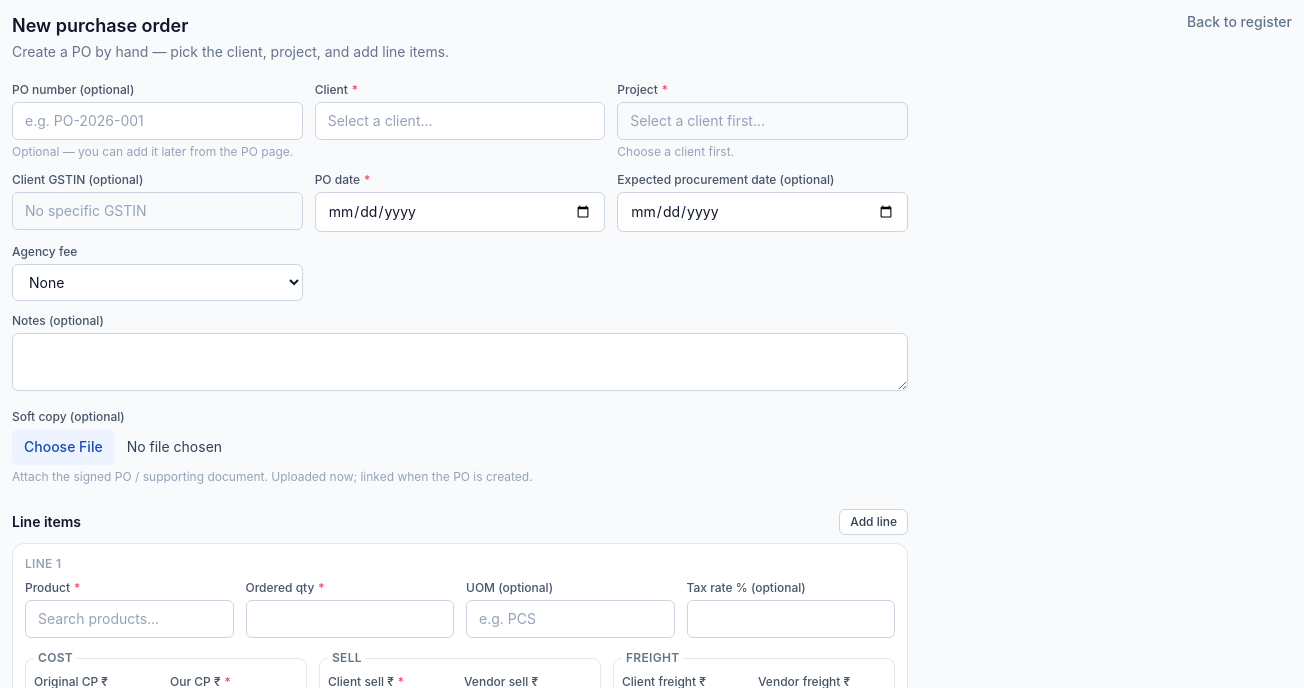
Test: PO create form — load this project's products (template pre-fill) › pre-fills the line UOM from the product master when the template's uom is null
Expected: the field labelled "PO number" is shown, [12,102,303,140]
Focus the dropdown labelled "Client *" at (460,121), box [315,102,605,140]
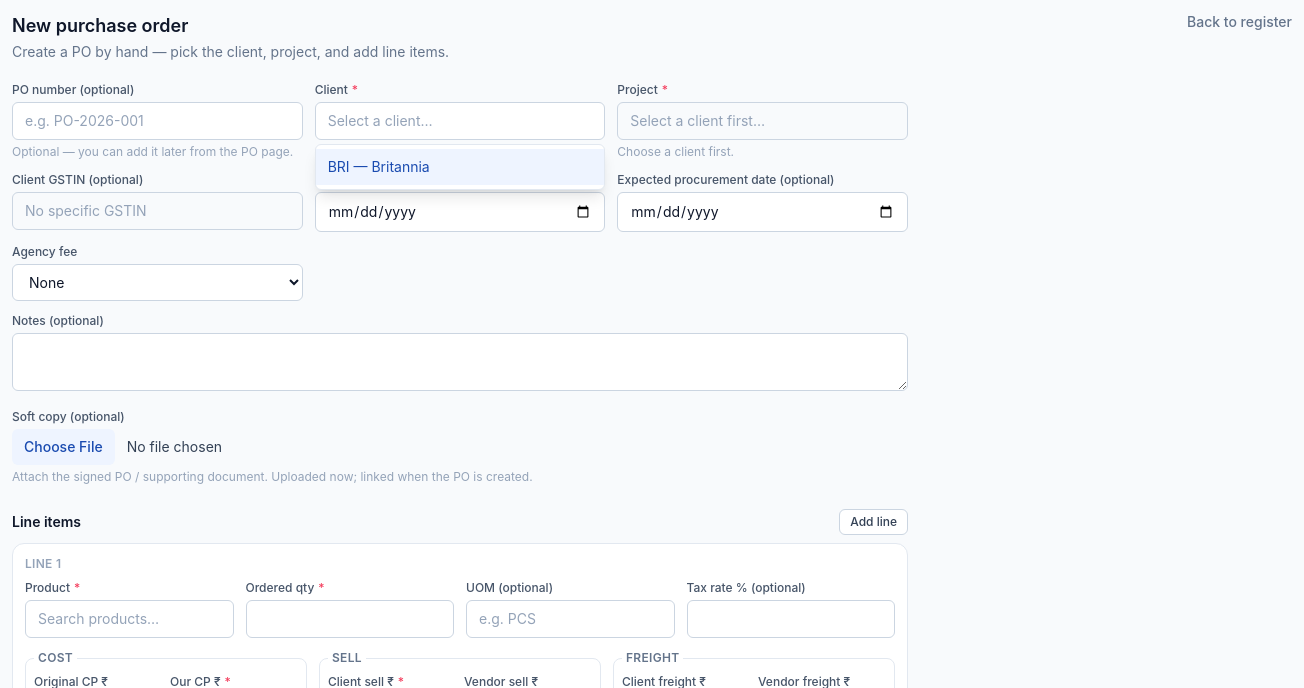
Press the mouse on the option "BRI — Britannia" at (379,166), box [316,149,604,185]
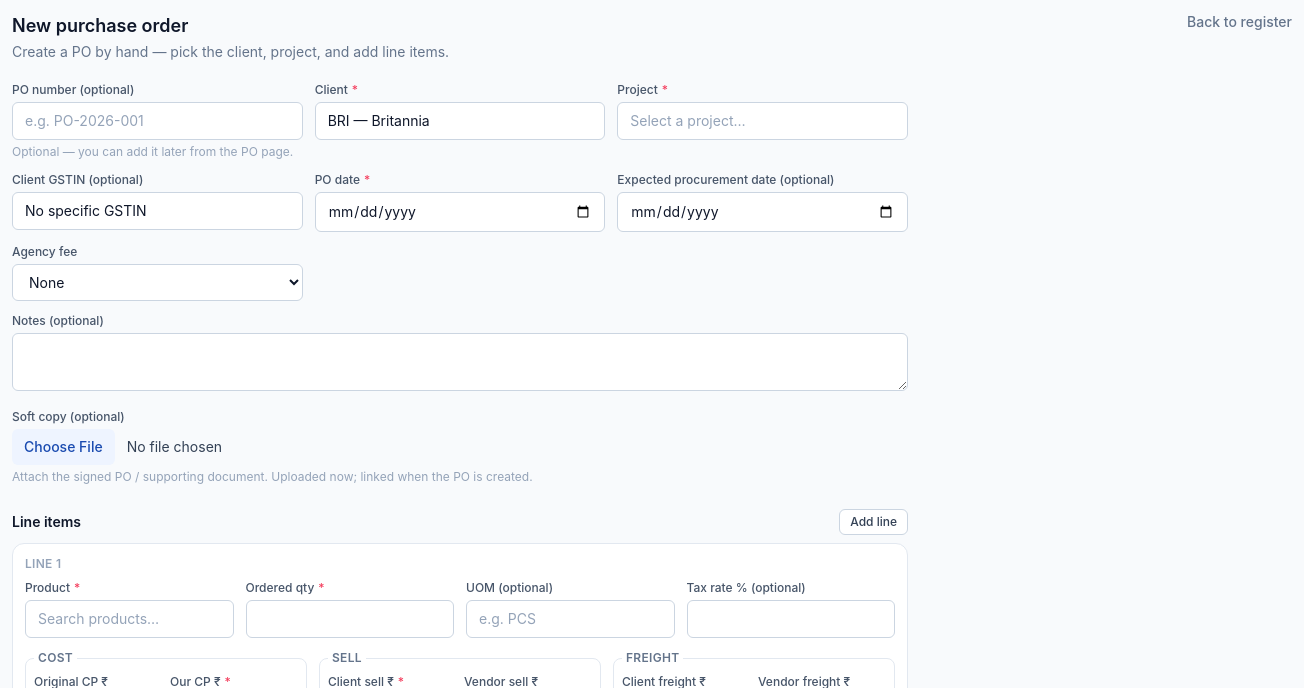
Expected: the dropdown labelled "Project *" is enabled
Focus the dropdown labelled "Project *" at (763,121), box [617,102,908,140]
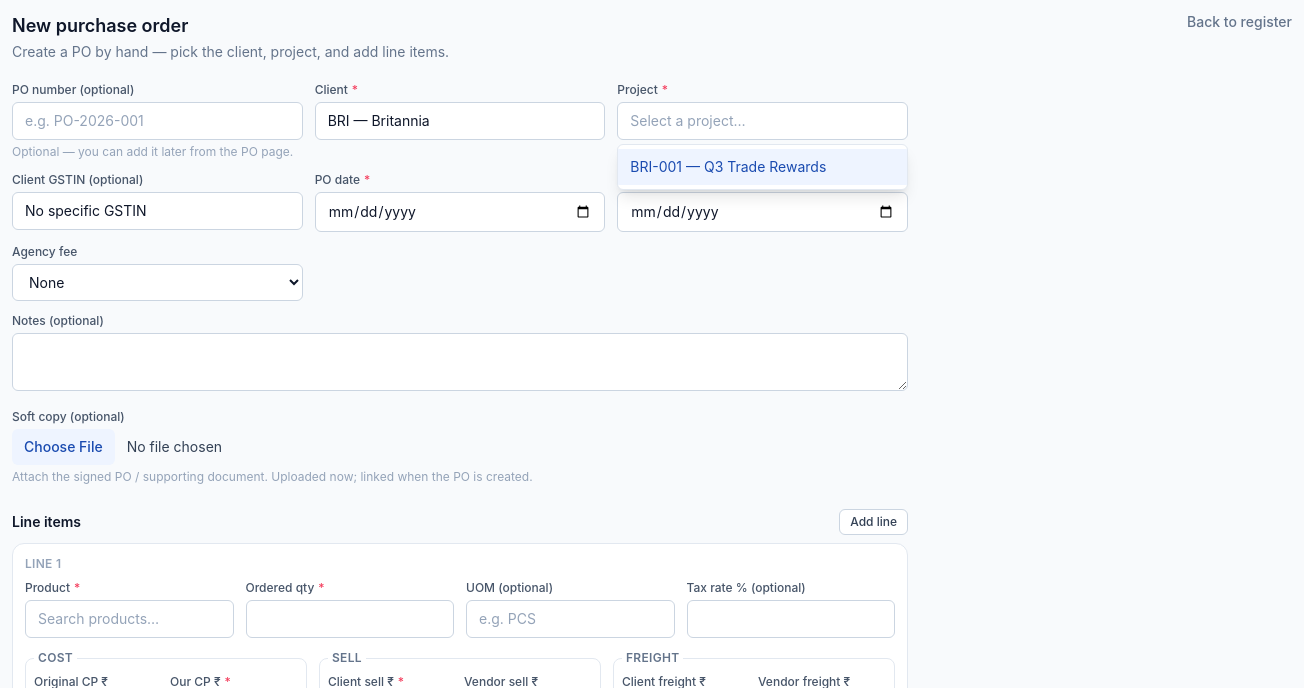
Press the mouse on the option "BRI-001 — Q3 Trade Rewards" at (763,167), box [618,149,907,185]
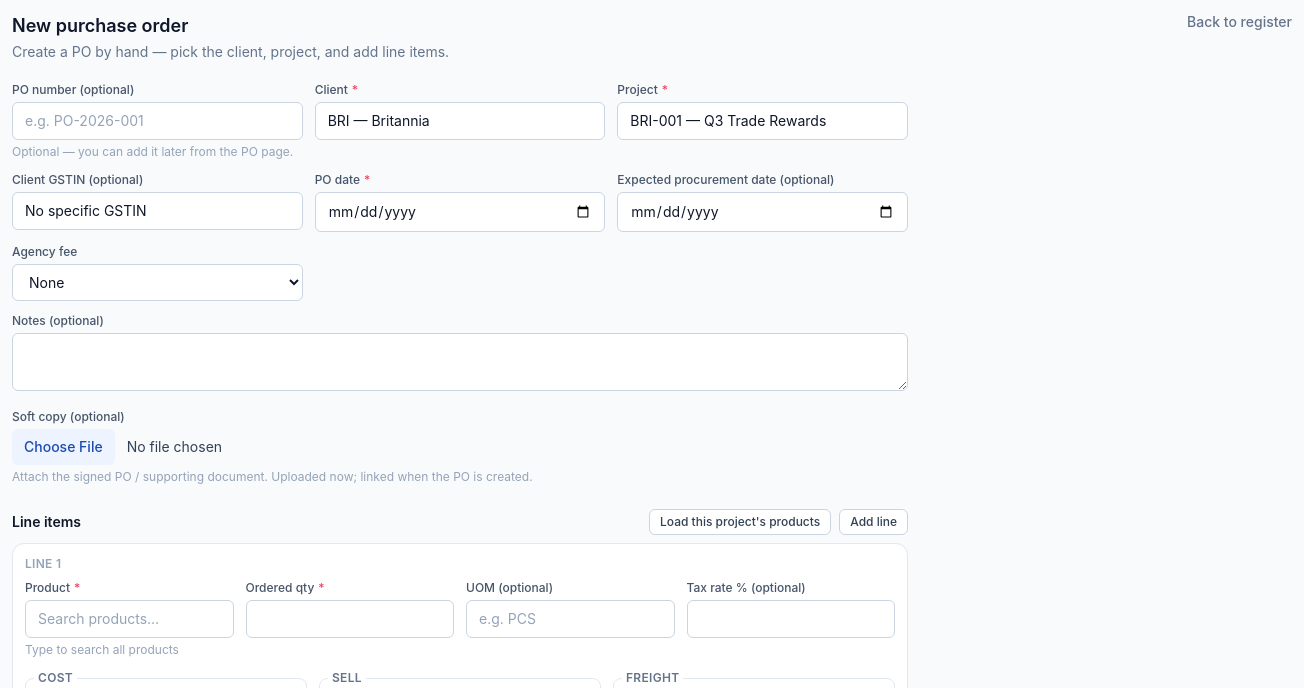
Click the button "Load this project's products" at (740,522), box [649,509,831,535]
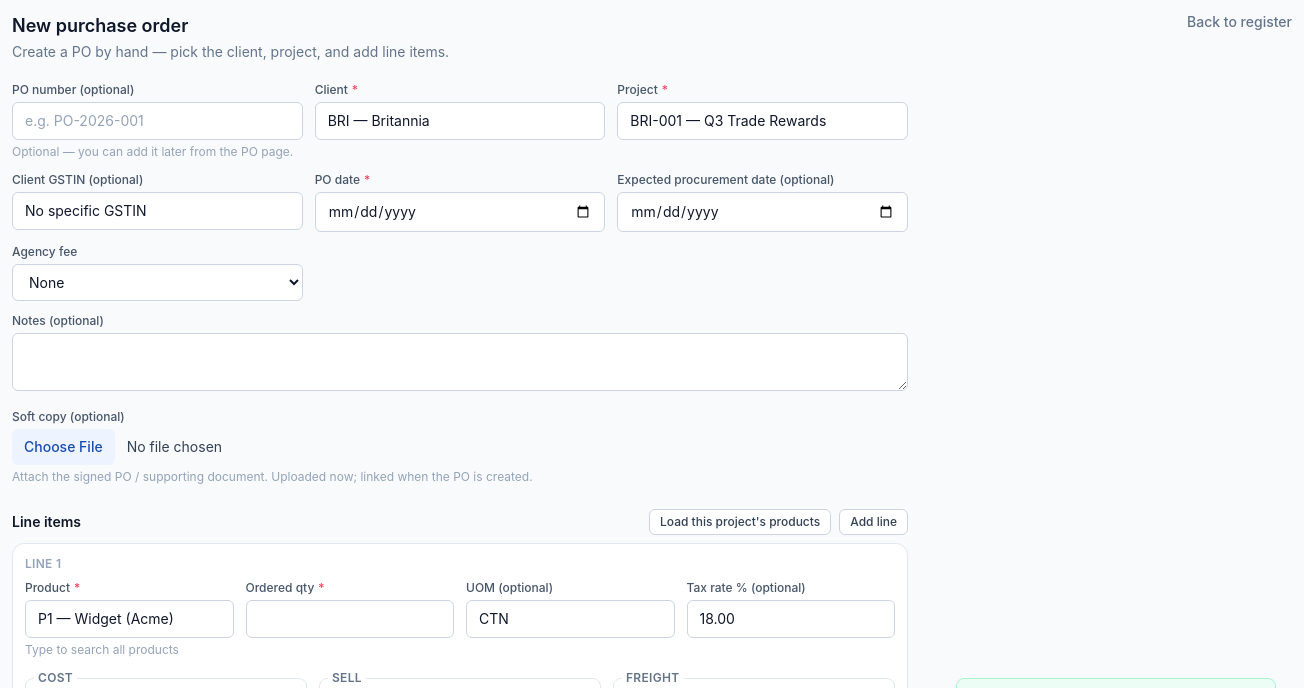
Expected: the field labelled "UOM (optional)" holds "CTN", [466,600,674,638]
